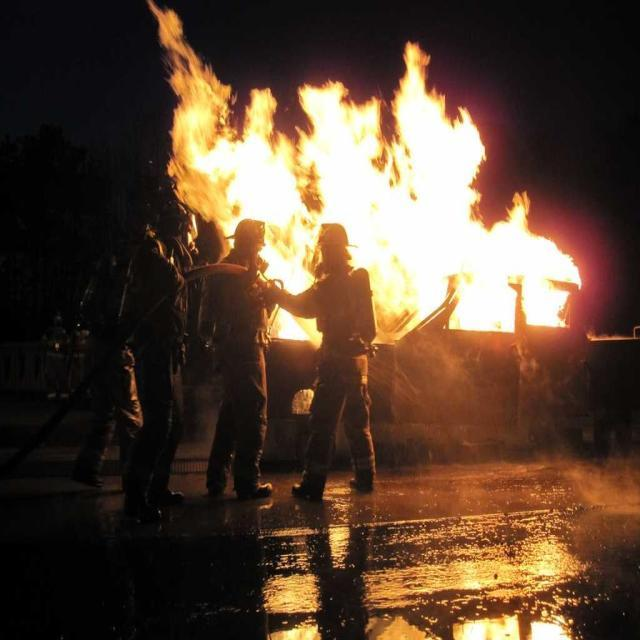Fire: (400, 84, 475, 304), (287, 102, 388, 234), (175, 115, 276, 215), (480, 228, 560, 325)
